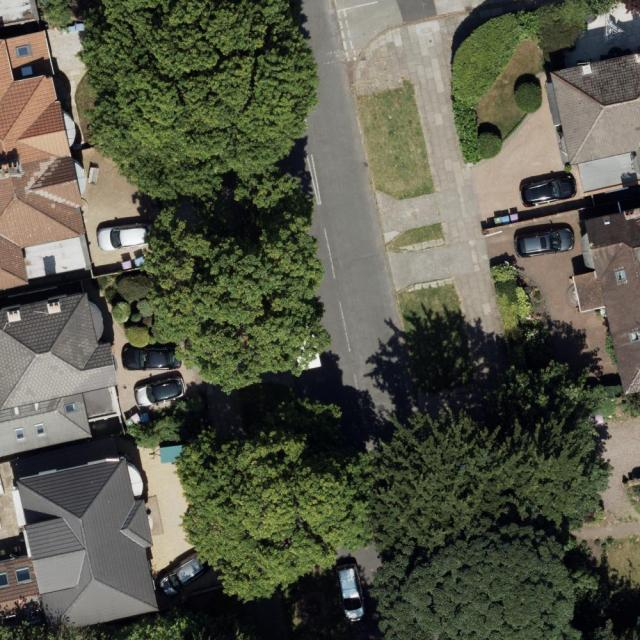roof: (0, 457, 161, 637), (0, 26, 91, 289), (0, 292, 123, 457), (571, 204, 640, 398), (552, 53, 640, 173)
skylight: (13, 565, 33, 583), (14, 43, 34, 61), (62, 397, 80, 415), (612, 266, 629, 284), (12, 425, 25, 443), (0, 572, 11, 590), (627, 330, 640, 345), (17, 65, 34, 76), (33, 423, 44, 437)
